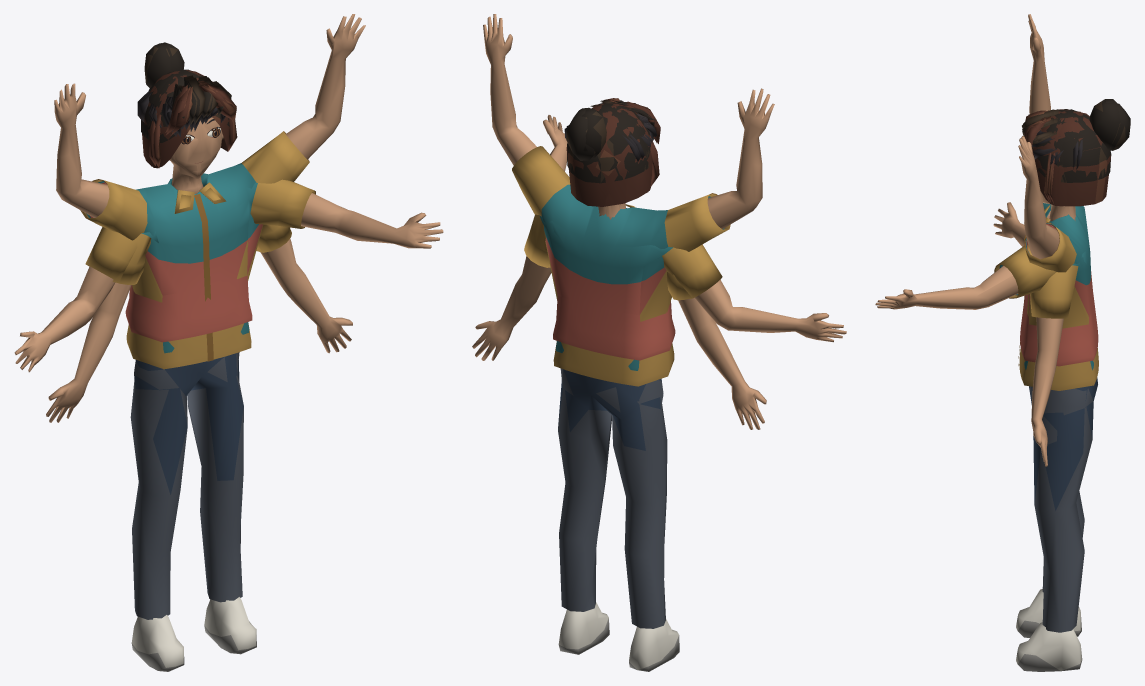
The model's file is crowd.glb.
3 renders of one model, left to right at view 1: azimuth 30°, elevation 25°; view 2: azimuth 150°, elevation 25°; view 3: azimuth 270°, elevation 25°, orthographic. The views are drawn at different scales.
Visible parts, largest first — view 1: Crowd.A.Calm.Surface, Crowd.B.Calm.Surface, Crowd.A.Cheering.Surface, Crowd.A.Reaching.Surface, Crowd.C.Calm.Surface, Crowd.C.Cheering.Surface, Crowd.C.Reaching.Surface, Crowd.B.Reaching.Surface, Crowd.B.Cheering.Surface; view 2: Crowd.A.Calm.Surface, Crowd.A.Cheering.Surface, Crowd.B.Calm.Surface, Crowd.C.Cheering.Surface, Crowd.A.Reaching.Surface, Crowd.C.Calm.Surface, Crowd.B.Cheering.Surface, Crowd.C.Reaching.Surface, Crowd.B.Reaching.Surface; view 3: Crowd.A.Calm.Surface, Crowd.B.Calm.Surface, Crowd.A.Cheering.Surface, Crowd.C.Cheering.Surface, Crowd.A.Reaching.Surface, Crowd.C.Calm.Surface, Crowd.C.Reaching.Surface, Crowd.B.Cheering.Surface, Crowd.B.Reaching.Surface.
Boxes of the visible parts, x1=… form: Crowd.A.Calm.Surface: x1=46, y1=92, x2=352, y2=671; Crowd.B.Calm.Surface: x1=125, y1=73, x2=252, y2=494; Crowd.A.Cheering.Surface: x1=54, y1=14, x2=365, y2=263; Crowd.A.Reaching.Surface: x1=14, y1=92, x2=443, y2=372; Crowd.C.Calm.Surface: x1=112, y1=43, x2=291, y2=369; Crowd.C.Cheering.Surface: x1=80, y1=43, x2=309, y2=302; Crowd.C.Reaching.Surface: x1=85, y1=42, x2=315, y2=282; Crowd.B.Reaching.Surface: x1=148, y1=71, x2=247, y2=282; Crowd.B.Cheering.Surface: x1=90, y1=70, x2=262, y2=295; Crowd.A.Calm.Surface: x1=472, y1=113, x2=766, y2=671; Crowd.A.Cheering.Surface: x1=483, y1=14, x2=774, y2=280; Crowd.B.Calm.Surface: x1=553, y1=98, x2=675, y2=450; Crowd.C.Cheering.Surface: x1=512, y1=101, x2=730, y2=321; Crowd.A.Reaching.Surface: x1=543, y1=115, x2=846, y2=342; Crowd.C.Calm.Surface: x1=524, y1=100, x2=691, y2=386; Crowd.B.Cheering.Surface: x1=545, y1=98, x2=666, y2=314; Crowd.C.Reaching.Surface: x1=568, y1=100, x2=722, y2=298; Crowd.B.Reaching.Surface: x1=598, y1=98, x2=660, y2=315; Crowd.A.Calm.Surface: x1=1016, y1=130, x2=1093, y2=671; Crowd.B.Calm.Surface: x1=1020, y1=109, x2=1098, y2=510; Crowd.A.Cheering.Surface: x1=1018, y1=14, x2=1090, y2=285; Crowd.C.Cheering.Surface: x1=1024, y1=103, x2=1130, y2=328; Crowd.A.Reaching.Surface: x1=875, y1=132, x2=1087, y2=309; Crowd.C.Calm.Surface: x1=1018, y1=99, x2=1117, y2=390; Crowd.C.Reaching.Surface: x1=994, y1=101, x2=1120, y2=317; Crowd.B.Cheering.Surface: x1=1026, y1=109, x2=1110, y2=317; Crowd.B.Reaching.Surface: x1=1002, y1=109, x2=1078, y2=310.
Bounding box in the file's own units: 1.22 × 1.95 × 0.7824.
